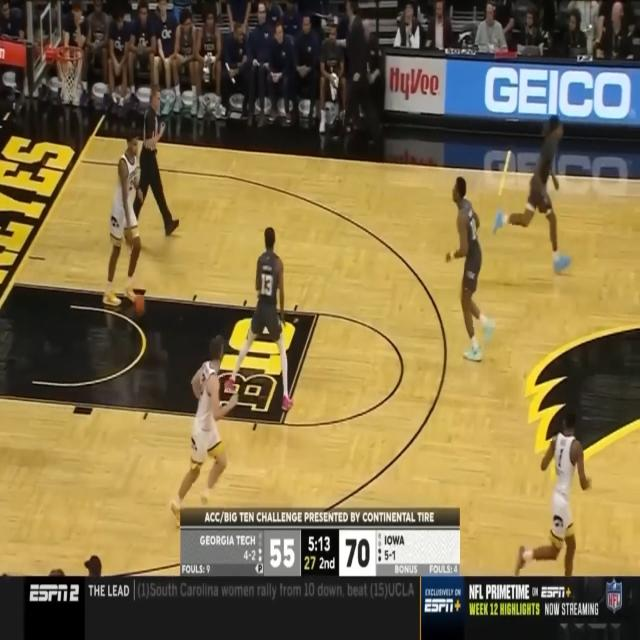Ball: (134, 295, 146, 317)
Hoop: (56, 44, 83, 102)
Overlay: (0, 575, 640, 640), (180, 508, 460, 576)
Player: (513, 411, 592, 608), (170, 336, 240, 528), (223, 226, 294, 411), (494, 116, 574, 274), (446, 176, 495, 366), (103, 126, 142, 309)
Ref: (132, 84, 181, 241)
Scoreboard: (180, 530, 460, 576)
